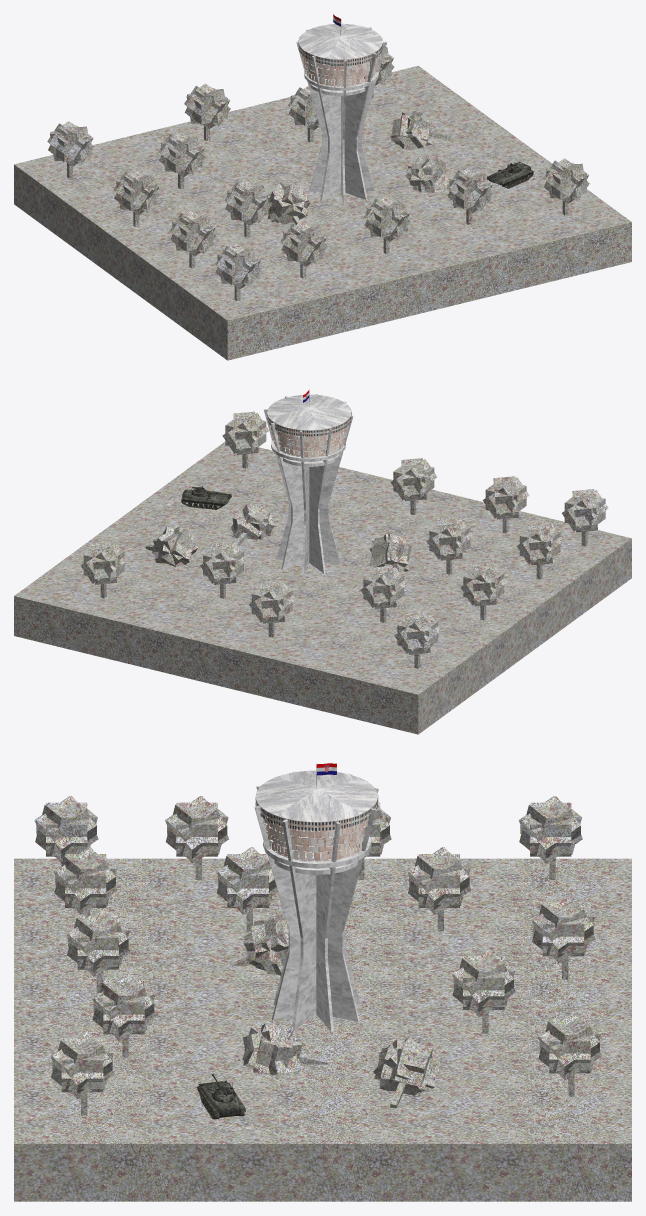
File: toranjv.obj
The picture shows the model from 3 angles, top to bottom: view 1: azimuth 30°, elevation 25°; view 2: azimuth 150°, elevation 25°; view 3: azimuth 270°, elevation 25°; orthographic projection. The views are drawn at different scales.
Visible parts, largest first — view 1: Part1, Enhancedcone1, Union13, Union11, Union8, Union15, Union16, Union14, Union7, Union10, Union4, Union2 (+10 smaller); view 2: Part1, Enhancedcone1, Union11, Union1, Union4, Union13, Union3, Union7, Union15, Union2, Union8, Union10 (+11 smaller); view 3: Part1, Enhancedcone1, Union15, Union14, Union3, Union1, Union2, Union7, Union16, Union8, Union6, Union13 (+23 smaller).
Boxes of the visible parts, box(x1,y1,x2,y2) form: Part1: box(14, 65, 631, 360); Enhancedcone1: box(298, 23, 382, 59); Union13: box(280, 221, 327, 278); Union11: box(224, 180, 270, 237); Union8: box(158, 132, 204, 189); Union15: box(543, 158, 589, 215); Union16: box(364, 196, 410, 253); Union14: box(447, 168, 493, 225); Union7: box(169, 211, 215, 268); Union10: box(215, 244, 261, 301); Union4: box(113, 169, 159, 226); Union2: box(47, 121, 93, 178); Part1: box(14, 441, 631, 734); Enhancedcone1: box(267, 394, 351, 430); Union11: box(426, 517, 473, 574); Union1: box(80, 541, 127, 598); Union4: box(460, 563, 507, 620); Union13: box(482, 476, 529, 533); Union3: box(249, 580, 295, 637); Union7: box(516, 522, 563, 579); Union15: box(222, 411, 269, 468); Union2: box(394, 611, 440, 668); Union8: box(360, 565, 406, 622); Union10: box(562, 489, 608, 546); Part1: box(14, 858, 631, 1201); Enhancedcone1: box(255, 770, 377, 821); Union15: box(50, 1031, 114, 1115); Union14: box(92, 973, 155, 1057); Union3: box(531, 895, 595, 979); Union1: box(538, 1012, 601, 1096); Union2: box(518, 796, 582, 879); Union7: box(165, 796, 228, 879); Union16: box(66, 909, 130, 993); Union8: box(407, 847, 471, 931); Union6: box(452, 949, 515, 1033); Union13: box(53, 847, 117, 915).
Size of the model in its own units: 42.4 by 21.26 by 38.8.
